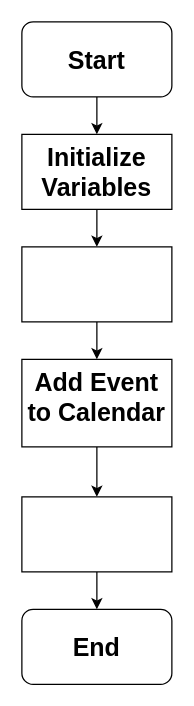
This 194x706 diagram has some shape labels left out. Here are the shapes that lost their labels. From the top down, the centre of each, then its label:
(96,284): Create Event
(96,534): Write Event to File
